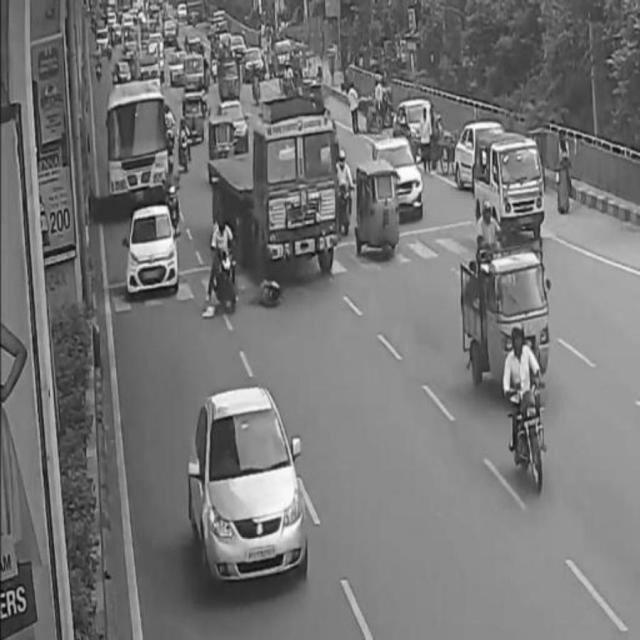person: (556, 134, 576, 218)
vehicle: (193, 390, 311, 584), (256, 114, 337, 274), (463, 257, 551, 381), (109, 91, 173, 201), (507, 330, 551, 488), (474, 130, 542, 230), (129, 205, 177, 295), (374, 138, 425, 222), (355, 170, 395, 261), (207, 214, 242, 312)
